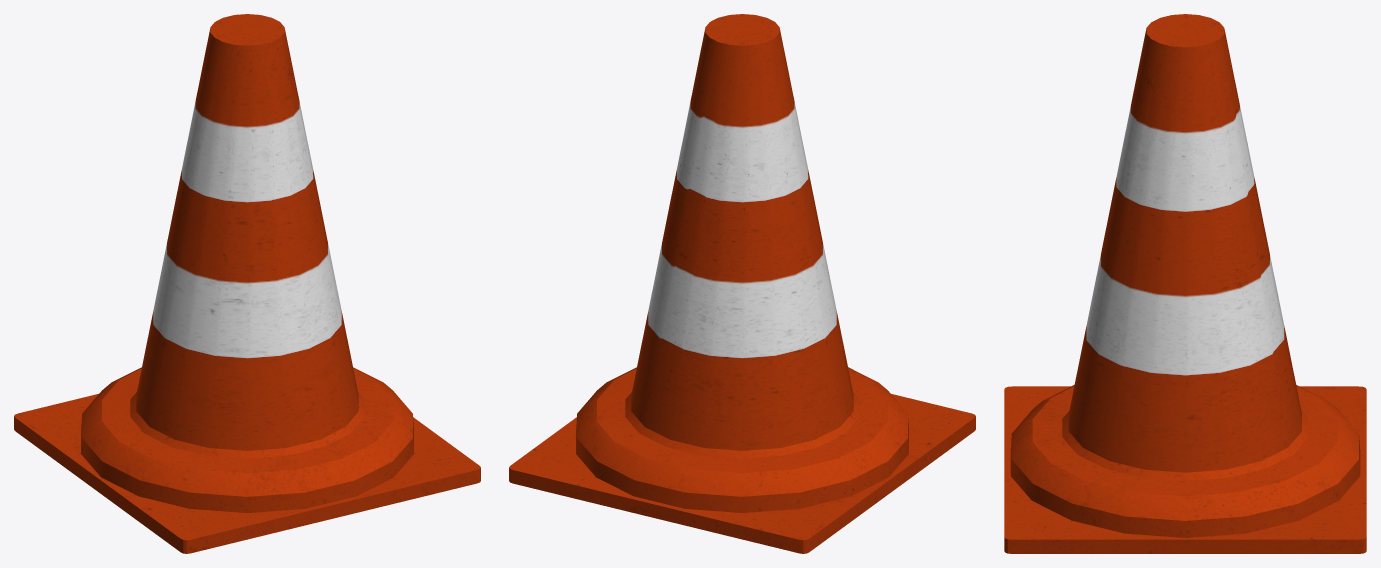
The picture shows the model from 3 angles, left to right: view 1: azimuth 30°, elevation 25°; view 2: azimuth 150°, elevation 25°; view 3: azimuth 270°, elevation 25°; orthographic projection. The views are drawn at different scales.
Parts seen in each view (by area): view 1: Box001; view 2: Box001; view 3: Box001.
Part boxes in pixels (bbox=[...]): Box001: bbox=[14, 14, 480, 553]; Box001: bbox=[509, 14, 975, 553]; Box001: bbox=[1004, 14, 1366, 553].
Bounding box in the file's own units: 9.06 × 12.31 × 9.06.
